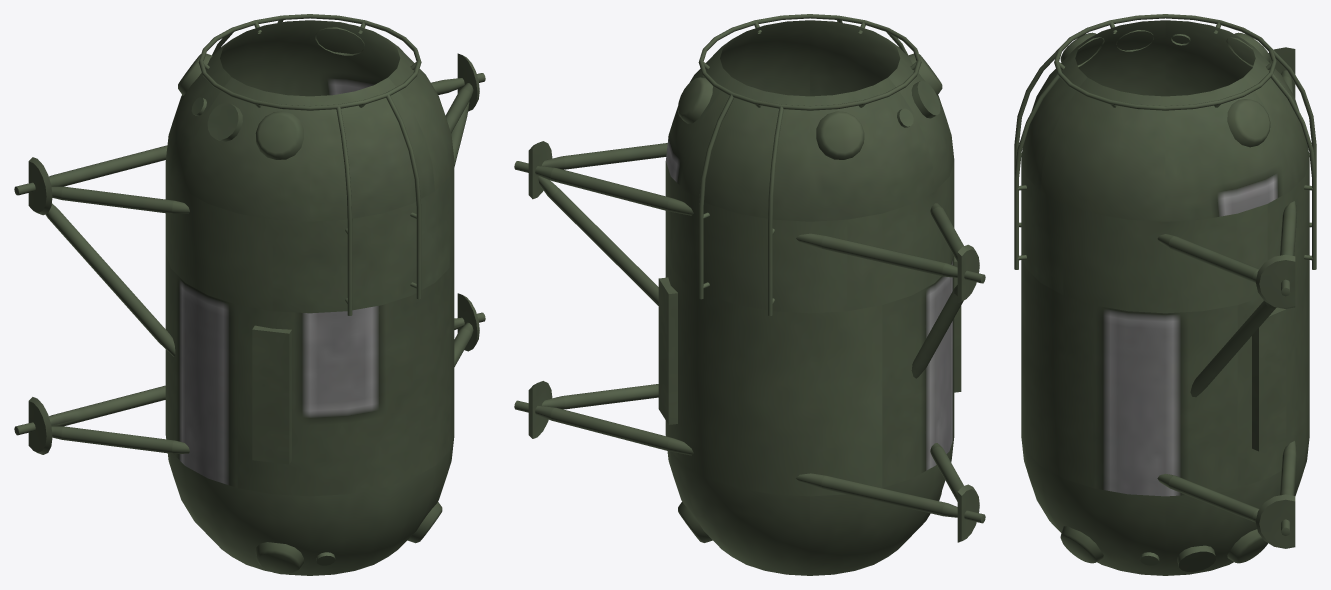
Rendered from mira_crew_s1_1_trunnion.obj.
3 views of the same model, side by side, from view 1: azimuth 30°, elevation 25°; view 2: azimuth 150°, elevation 25°; view 3: azimuth 270°, elevation 25° (orthographic).
Visible parts, largest first — view 1: 1; view 2: 1; view 3: 1.
Part boxes in pixels (<box>): 1: <box>14,14,485,575</box>; 1: <box>514,14,985,575</box>; 1: <box>1014,14,1316,575</box>.
Size of the model in its own units: 2.81 by 2.75 by 1.57.
